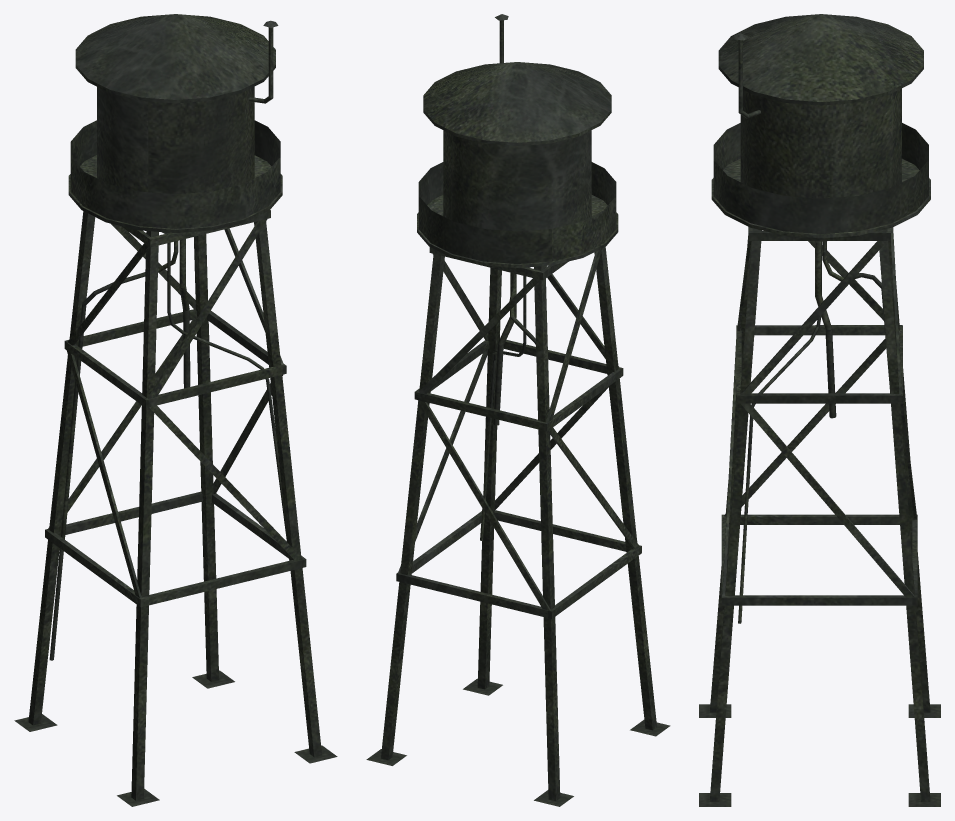
The model's file is WaterTowwer.FBX.
3 renders of one model, left to right at view 1: azimuth 30°, elevation 25°; view 2: azimuth 150°, elevation 25°; view 3: azimuth 270°, elevation 25°, orthographic. The views are drawn at different scales.
Parts seen in each view (by area): view 1: watertower; view 2: watertower; view 3: watertower.
Part boxes in pixels (x1,y1,x2,y2): watertower: (14, 14, 337, 806); watertower: (366, 14, 670, 806); watertower: (699, 14, 940, 806).
Size of the model in its own units: 0.7783 by 2.65 by 0.7734.
Materials: 1 (1 with a texture image).
